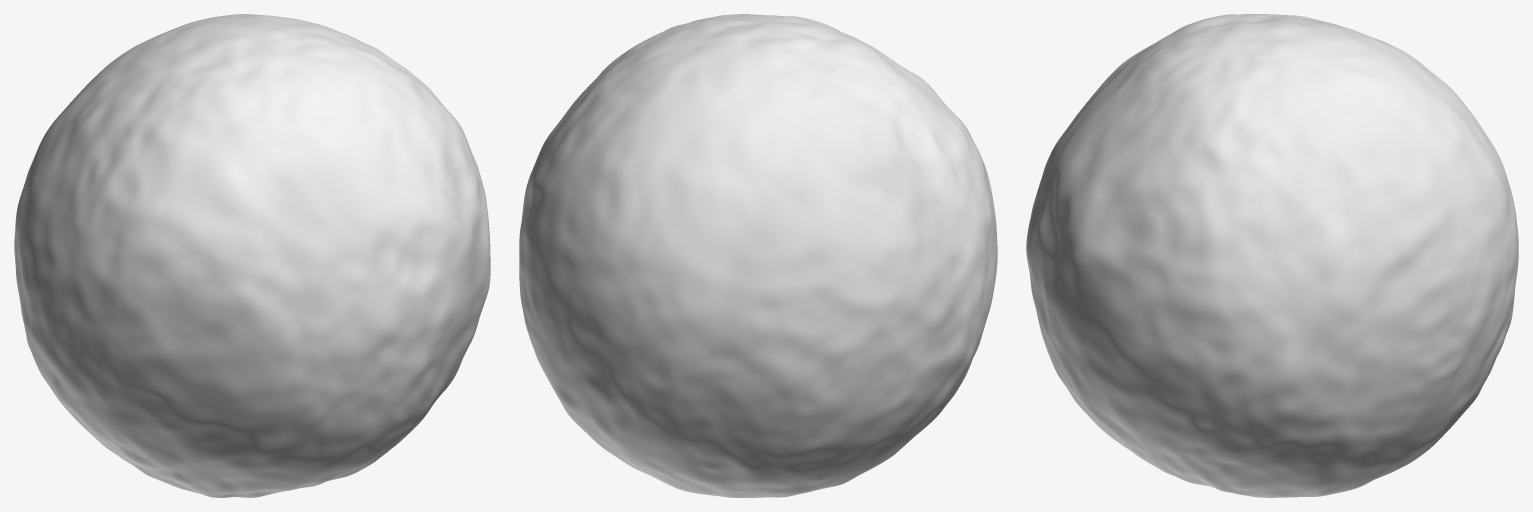
The model's file is Bola _de_neve2.fbx.
3 views of the same model, side by side, from view 1: azimuth 30°, elevation 25°; view 2: azimuth 150°, elevation 25°; view 3: azimuth 270°, elevation 25° (orthographic).
Parts seen in each view (by area): view 1: PolySphere; view 2: PolySphere; view 3: PolySphere.
Part boxes in pixels (box(x1,y1,x2,y2)): PolySphere: box(14, 14, 490, 497); PolySphere: box(519, 14, 997, 497); PolySphere: box(1026, 14, 1518, 497).
Size of the model in its own units: 21.01 by 20.97 by 21.11.
